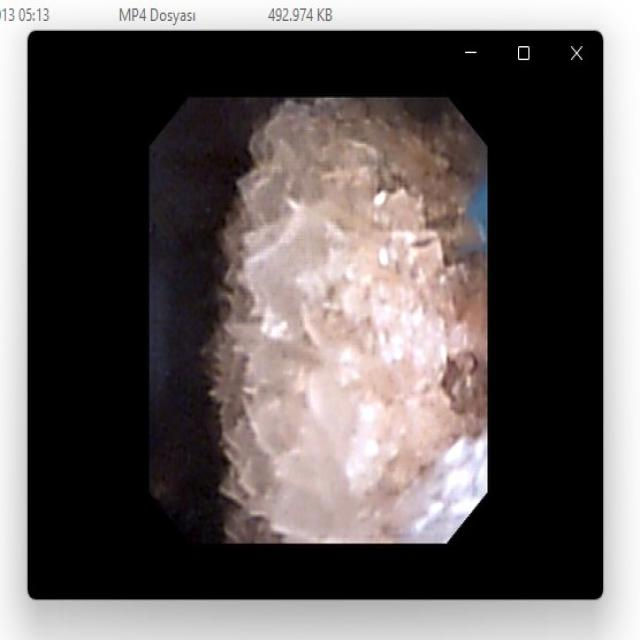stone: (211, 102, 481, 538)
